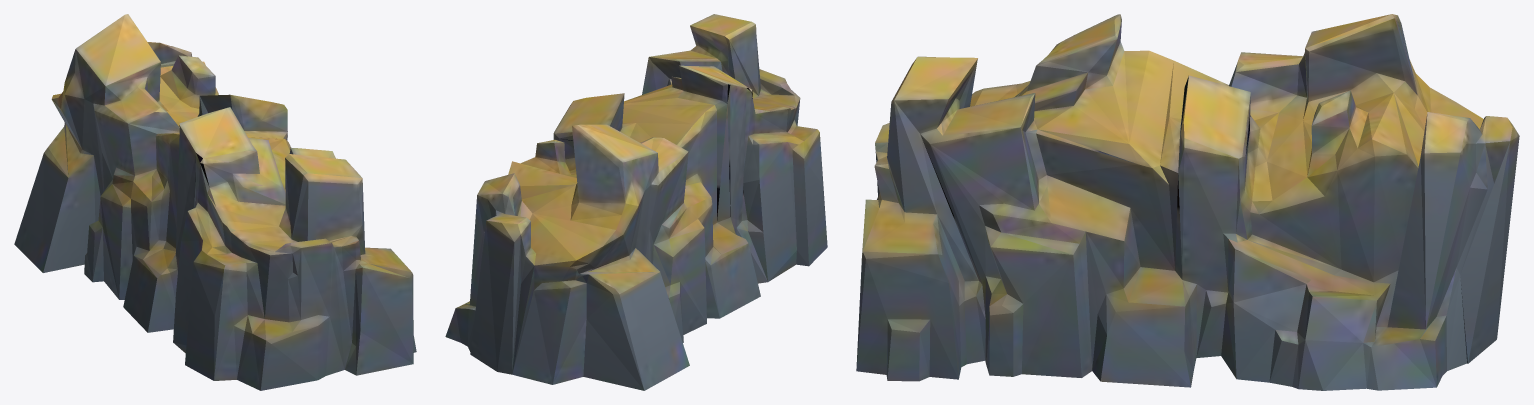
File: cliff_wide_moss.glb
The picture shows the model from 3 angles, left to right: view 1: azimuth 30°, elevation 25°; view 2: azimuth 150°, elevation 25°; view 3: azimuth 270°, elevation 25°; orthographic projection. The views are drawn at different scales.
Parts seen in each view (by area): view 1: cliff_wide_moss; view 2: cliff_wide_moss; view 3: cliff_wide_moss.
Boxes of the visible parts, x1,y1,x2,y2 form: cliff_wide_moss: (14, 14, 416, 390); cliff_wide_moss: (445, 14, 827, 390); cliff_wide_moss: (856, 14, 1519, 390).
Bounding box in the file's own units: 5.29 × 5.29 × 10.58.
1 material, 1 textured.
